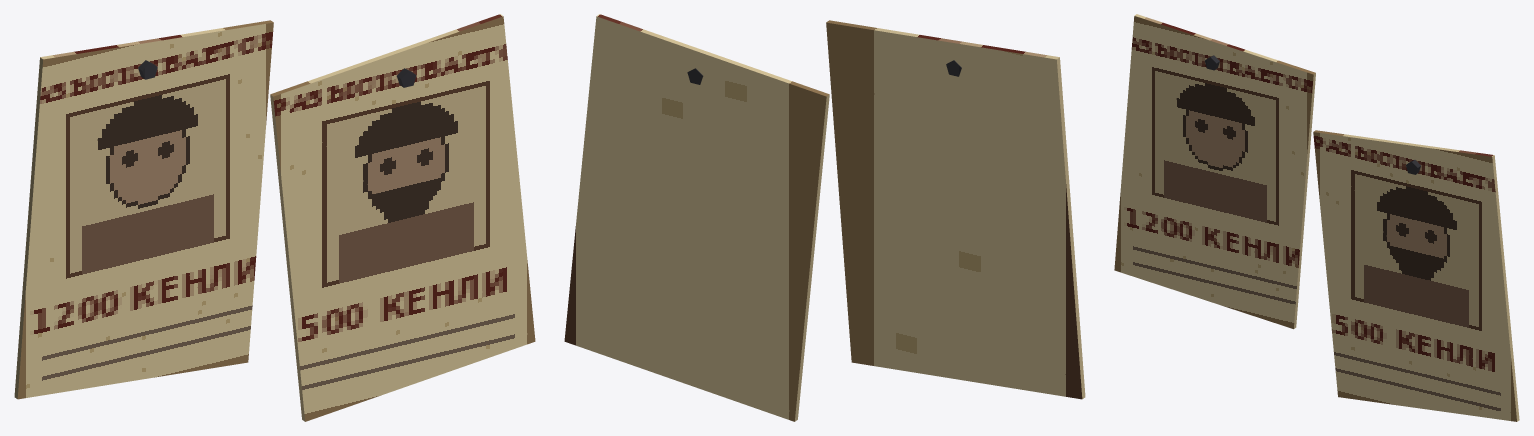
Rendered from wanted_wall.glb.
3 renders of one model, left to right at view 1: azimuth 30°, elevation 25°; view 2: azimuth 150°, elevation 25°; view 3: azimuth 330°, elevation 25°, orthographic. The views are drawn at different scales.
Visible parts, largest first — view 1: body; view 2: body; view 3: body.
Boxes of the visible parts, x1,y1,x2,y2 form: body: [14, 14, 535, 421]; body: [564, 14, 1085, 421]; body: [1114, 14, 1519, 421].
Size of the model in its own units: 0.7608 by 0.5986 by 0.02.
Materials: 3 (3 with a texture image).
